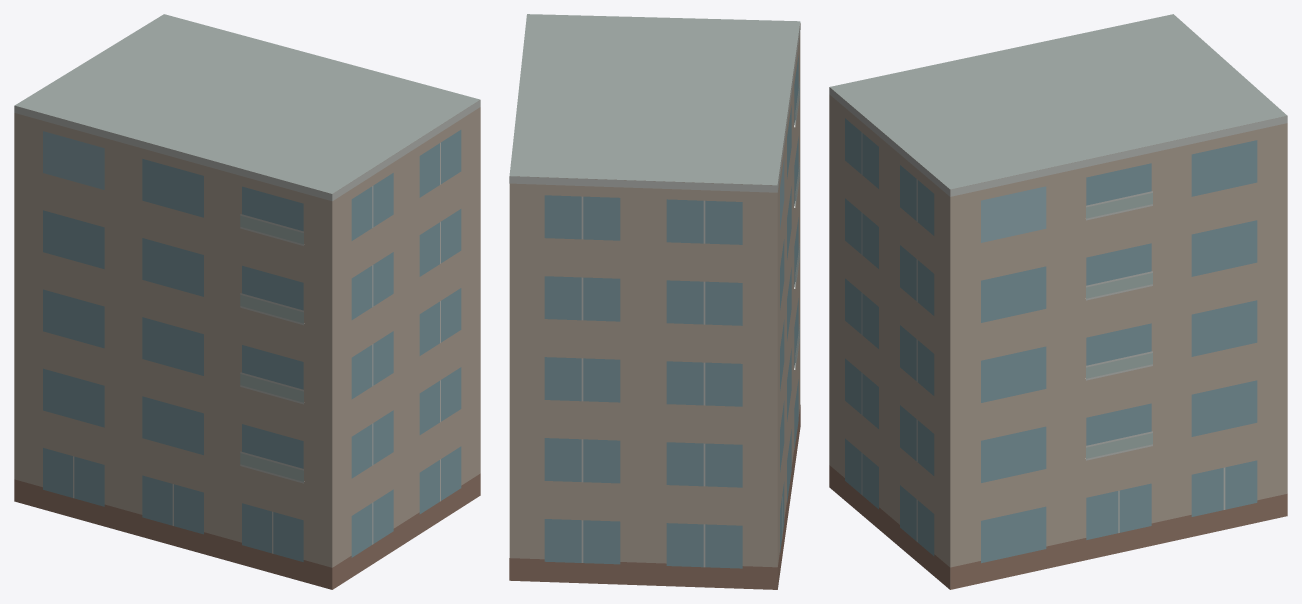
Rendered from survey-upis-32956384.glb.
The picture shows the model from 3 angles, left to right: view 1: azimuth 30°, elevation 25°; view 2: azimuth 150°, elevation 25°; view 3: azimuth 270°, elevation 25°; orthographic projection. The views are drawn at different scales.
Visible parts, largest first — view 1: survey-upis-32956384.tmp; view 2: survey-upis-32956384.tmp; view 3: survey-upis-32956384.tmp.
Part boxes in pixels (x1,y1,x2,y2): survey-upis-32956384.tmp: [14, 14, 480, 589]; survey-upis-32956384.tmp: [509, 14, 800, 589]; survey-upis-32956384.tmp: [829, 14, 1287, 589].
Bounding box in the file's own units: 12.42 × 13.2 × 13.7.
